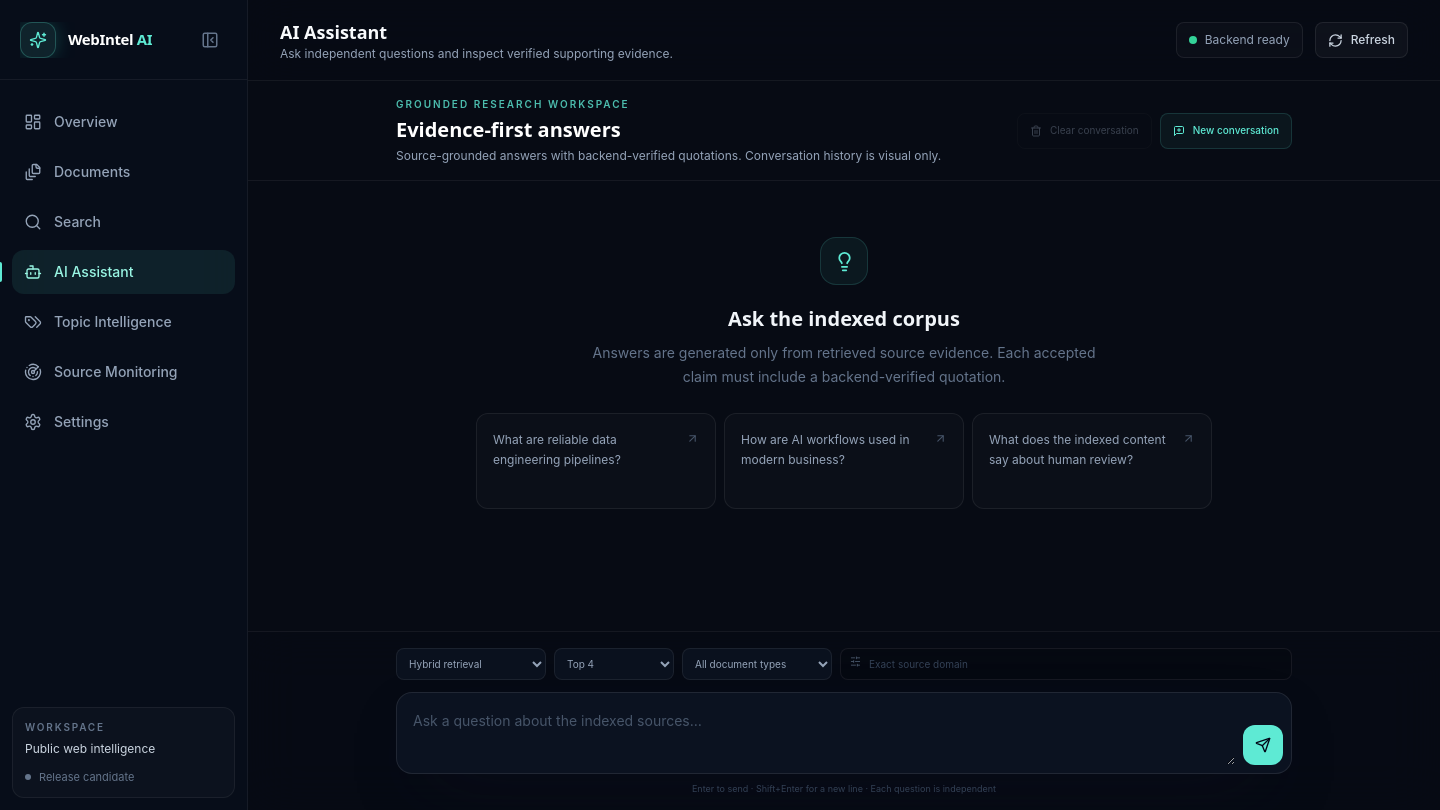
Test: AssistantPage › distinguishes provider errors and retries the exact question
Type "What makes intelligence pipelines reliable?" into the text box labelled "question".
click(820, 732); type("What makes intelligence pipelines reliable?")  # box [405,700,1235,764]
Then press Enter
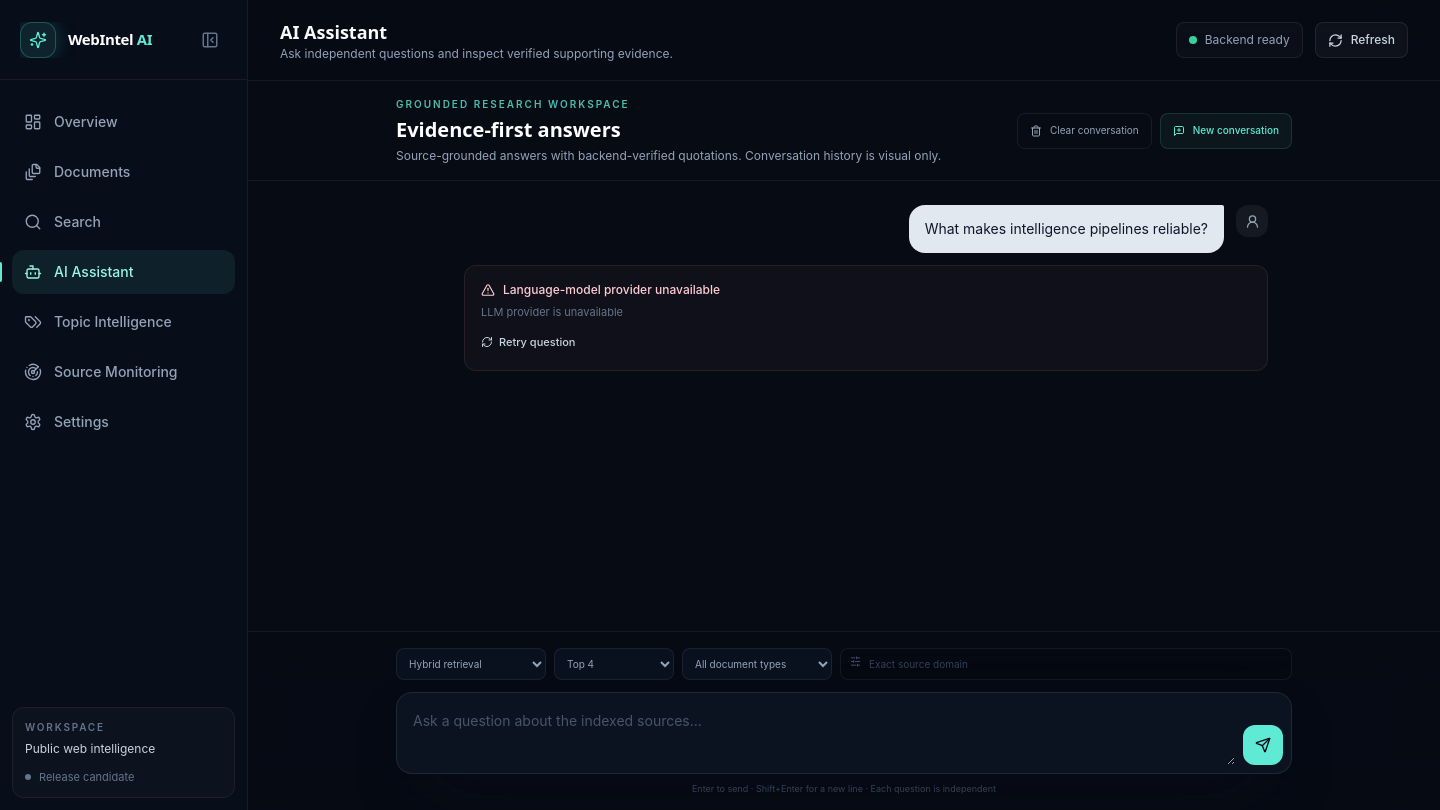
expect the text "Language-model provider unavailable" is shown: met, box [481,282,720,297]
Click the button "Retry question".
click(528, 342)  # box [481,334,576,350]
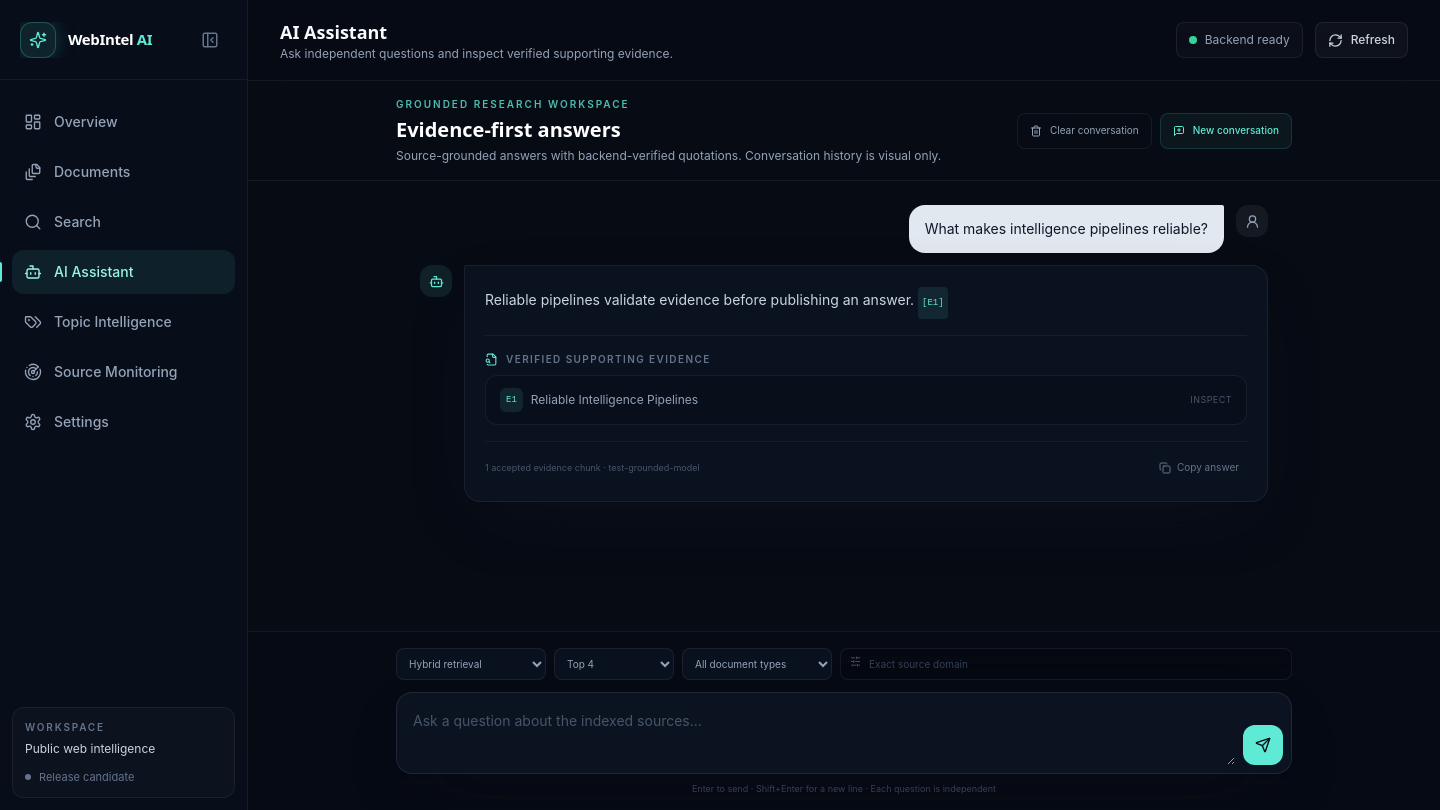
expect the text "Reliable pipelines validate evidence before publishing an answer." is shown: met, box [485,291,914,308]
